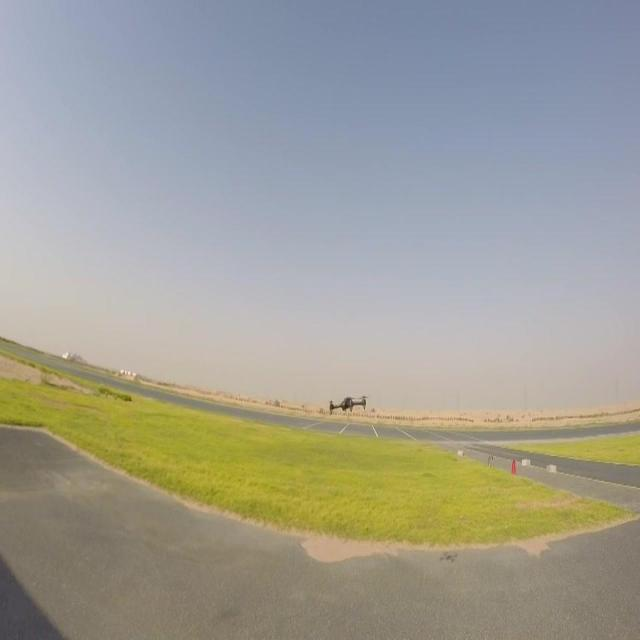UAV: (328, 396, 368, 412)
